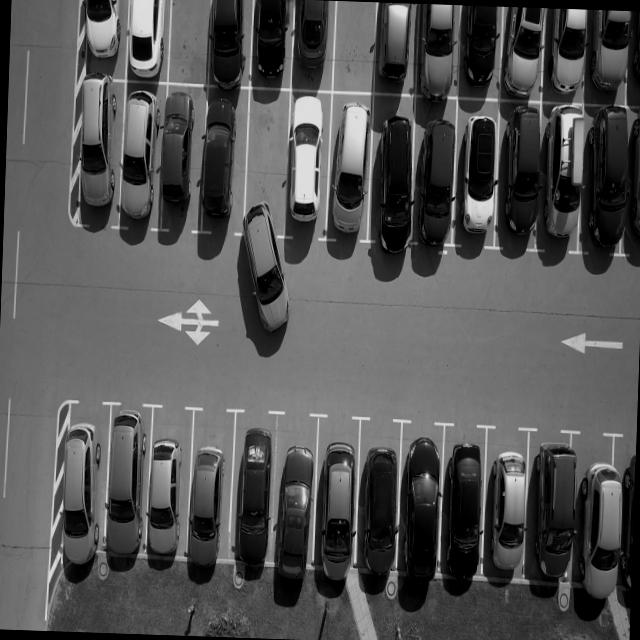car: (566, 440, 632, 618), (52, 398, 110, 578), (524, 428, 585, 598), (98, 399, 154, 570), (142, 402, 197, 568), (182, 404, 238, 566), (267, 410, 321, 578), (226, 408, 282, 570), (322, 90, 378, 250), (312, 414, 364, 581), (574, 112, 634, 256), (196, 83, 251, 240), (478, 425, 531, 587), (395, 419, 447, 582), (351, 416, 401, 584), (439, 422, 491, 580), (368, 95, 422, 246), (68, 76, 122, 226), (157, 85, 208, 242), (281, 90, 332, 246), (491, 108, 547, 250), (408, 99, 461, 248), (536, 109, 590, 252), (116, 80, 166, 232), (454, 110, 507, 252), (580, 9, 634, 104), (456, 4, 508, 98), (542, 10, 592, 106), (412, 5, 462, 100), (497, 8, 547, 103), (287, 0, 336, 91), (369, 2, 416, 92), (250, 0, 298, 87), (205, 0, 253, 85), (123, 0, 173, 80), (75, 0, 126, 77), (622, 110, 640, 253), (625, 10, 640, 103)
free: (243, 89, 293, 232), (331, 0, 382, 92), (167, 0, 215, 82)
